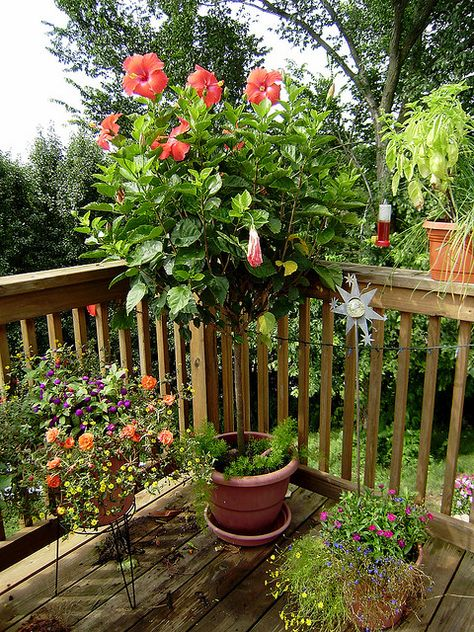Hibiscus: (118, 50, 177, 107), (150, 120, 205, 157), (237, 61, 280, 106), (187, 68, 230, 113), (243, 220, 277, 274), (98, 107, 132, 150)
